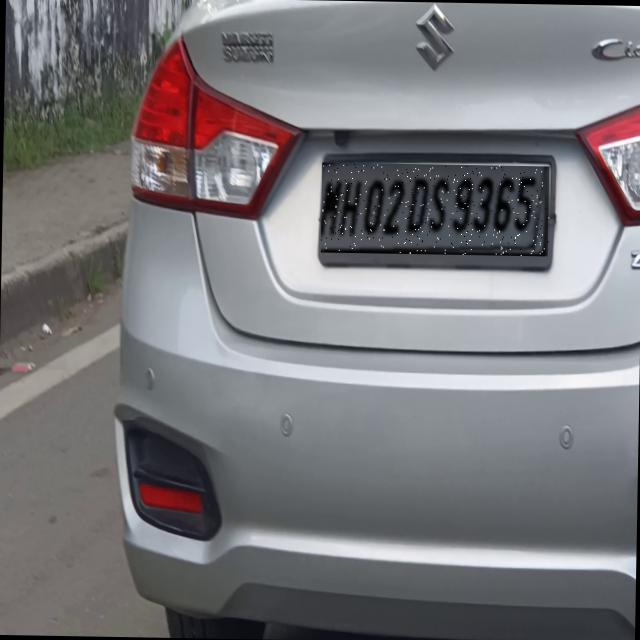Plate: (322, 163, 552, 257)
